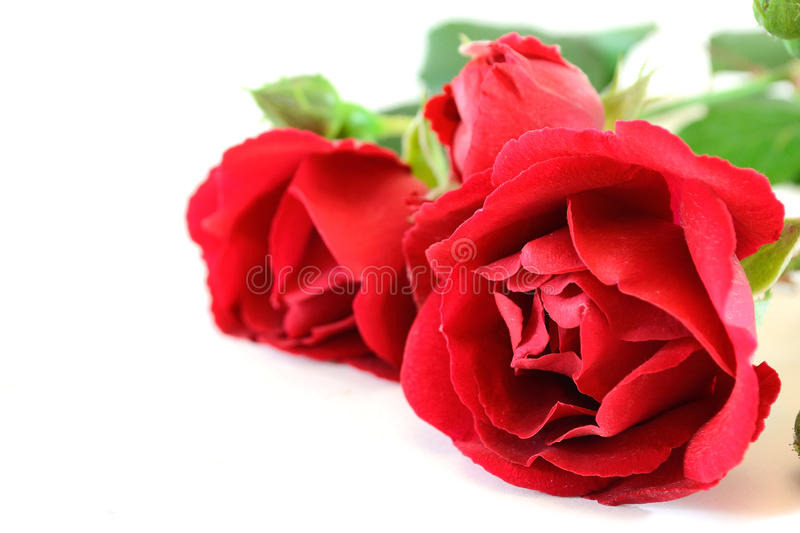RedRose: (438, 129, 758, 497), (193, 129, 426, 335), (421, 40, 593, 162)
